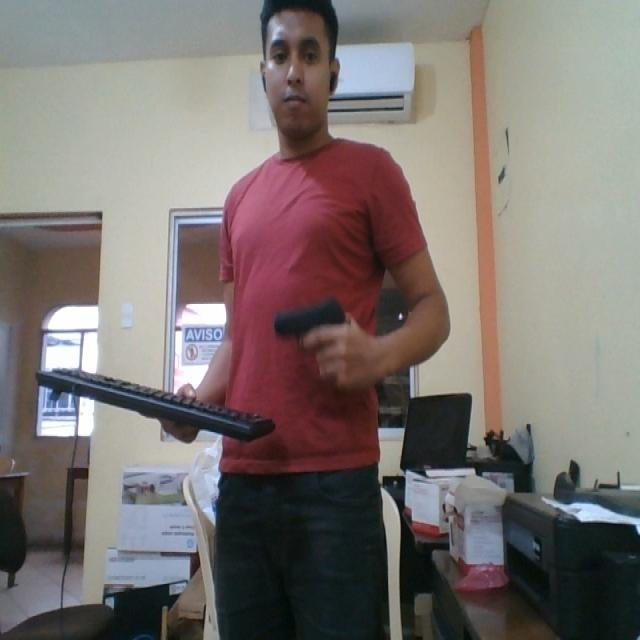weapon: (266, 296, 347, 350)
